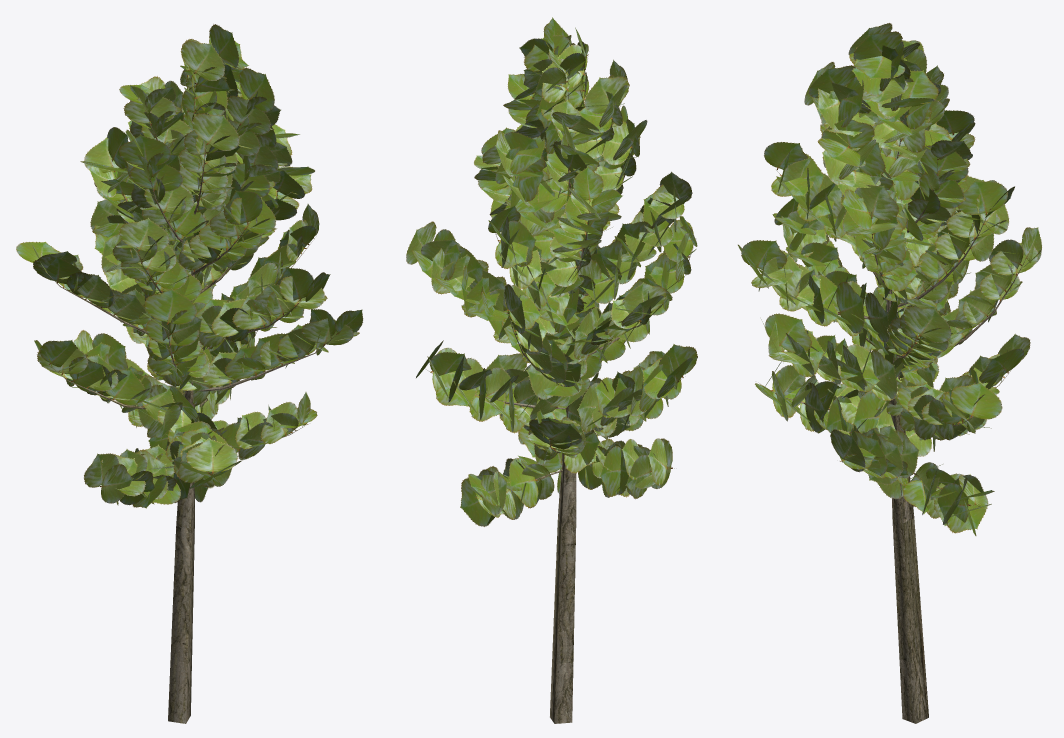
Rendered from tree1.obj.
The picture shows the model from 3 angles, left to right: view 1: azimuth 30°, elevation 25°; view 2: azimuth 150°, elevation 25°; view 3: azimuth 270°, elevation 25°; orthographic projection. The views are drawn at different scales.
Visible parts, largest first — view 1: leaves_leaves.001, tree_Mesh; view 2: leaves_leaves.001, tree_Mesh; view 3: leaves_leaves.001, tree_Mesh.
Boxes of the visible parts, left/top/right/bottom form: leaves_leaves.001: left=16, top=24, right=363, bottom=508; tree_Mesh: left=43, top=72, right=337, bottom=723; leaves_leaves.001: left=406, top=17, right=697, bottom=526; tree_Mesh: left=426, top=64, right=694, bottom=723; leaves_leaves.001: left=738, top=23, right=1041, bottom=535; tree_Mesh: left=750, top=114, right=1027, bottom=723.
Bounding box in the file's own units: 7.74 × 17.98 × 7.25.
2 materials, 2 textured.
